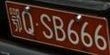Q: (22, 11, 34, 35)
